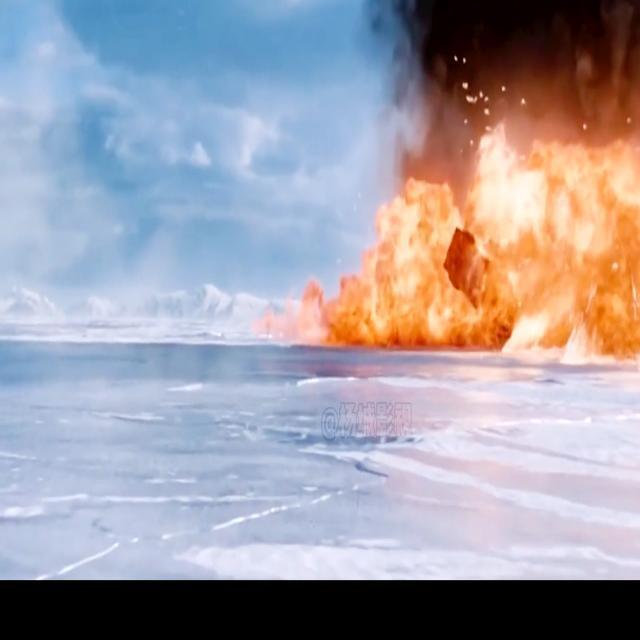fire: (258, 49, 640, 358)
